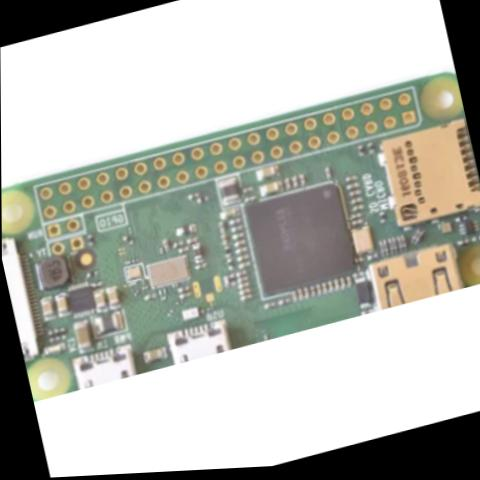Raspberry-Pi-Zero-W: (1, 68, 480, 401)
